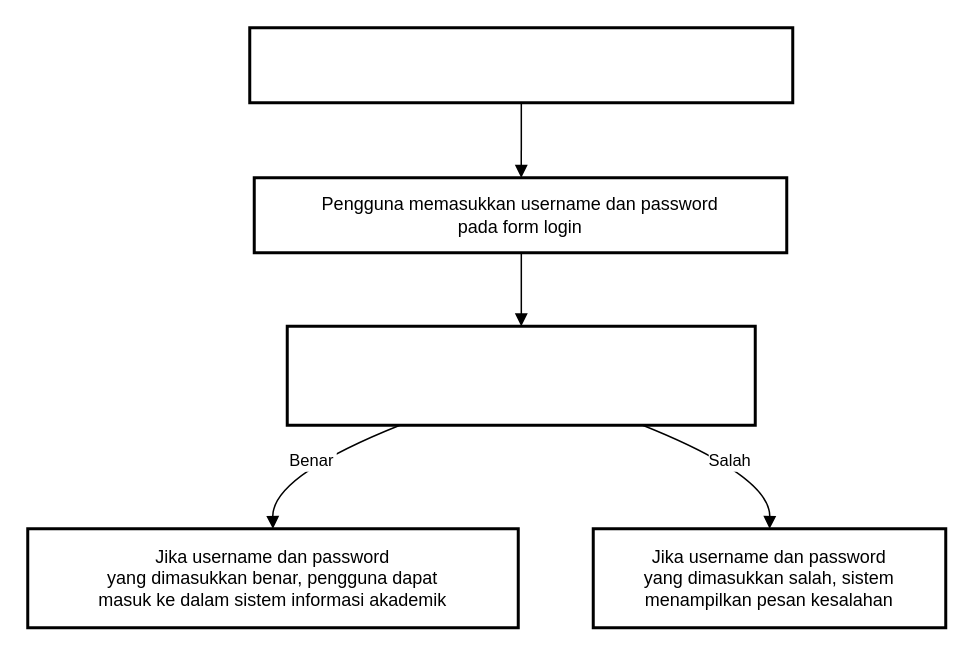
The diagram is 972 pixels wide and 654 high, and some of its shapes have lost their labels. The centre of each missing label's shape, as x and y in pixels:
"Pengguna membuka halaman login pada website sistem informasi akademik" belongs at (521,65).
"Sistem melakukan verifikasi username dan password yang dimasukkan oleh pengguna" belongs at (520,375).
